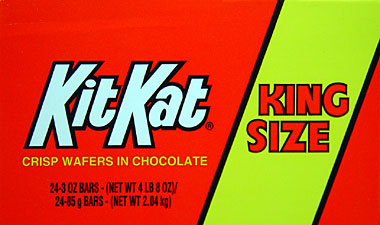grozi_30: (0, 0, 379, 225)
